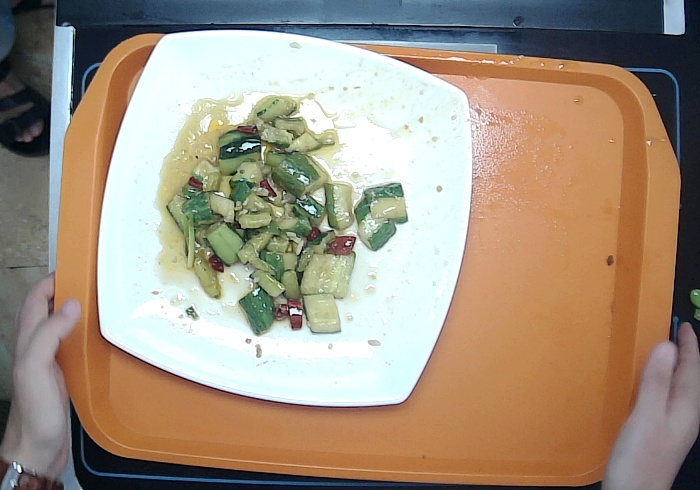ZNLD-Bai_Fang_Pan: (97, 29, 493, 407)
